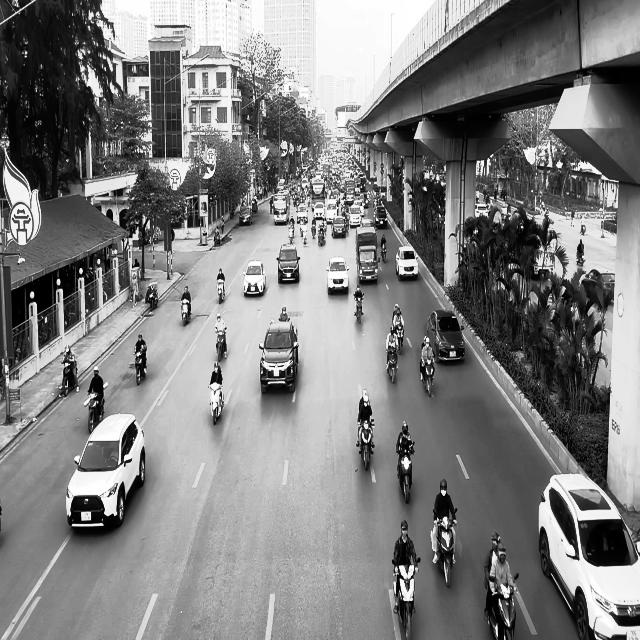car: (538, 472, 640, 640), (66, 412, 146, 530), (258, 318, 299, 394), (427, 309, 465, 363), (580, 268, 615, 306), (326, 256, 349, 295), (277, 244, 300, 283), (242, 260, 266, 296), (357, 244, 378, 283), (395, 245, 418, 280), (239, 206, 252, 225)
motorbike: (392, 556, 420, 639), (487, 573, 519, 639), (432, 508, 458, 588), (396, 438, 414, 503), (356, 418, 374, 471), (84, 389, 105, 434), (58, 360, 79, 398), (208, 382, 224, 425), (420, 356, 434, 398), (133, 349, 147, 385), (386, 346, 398, 383), (215, 328, 227, 361), (353, 292, 364, 324), (146, 283, 158, 310), (181, 300, 191, 326), (395, 326, 404, 353), (217, 278, 224, 304), (576, 250, 585, 266), (380, 243, 387, 262)
